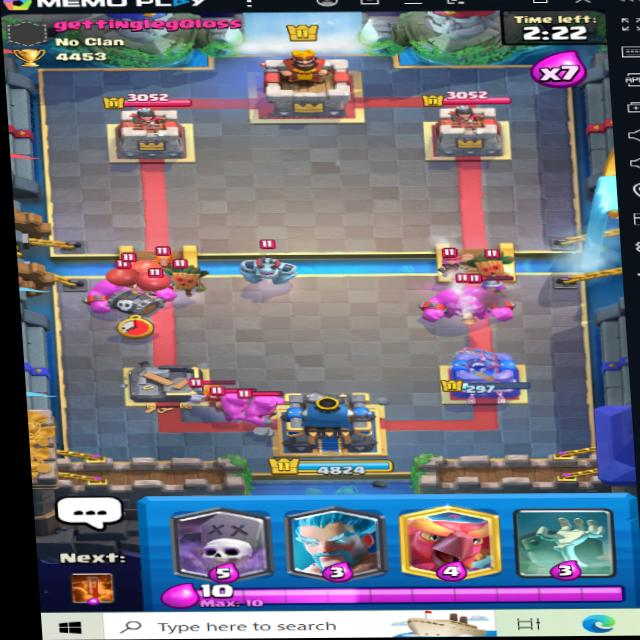dart-goblin: (164, 258, 210, 297), (470, 248, 519, 281)
electro-golem: (73, 266, 176, 319), (425, 280, 534, 330), (241, 386, 308, 425), (210, 388, 265, 424)
firecracker: (431, 252, 474, 282)
mega-minion: (232, 250, 295, 289)
musketeer: (464, 270, 523, 305)
valkyrie: (140, 250, 200, 283), (197, 381, 239, 408)
